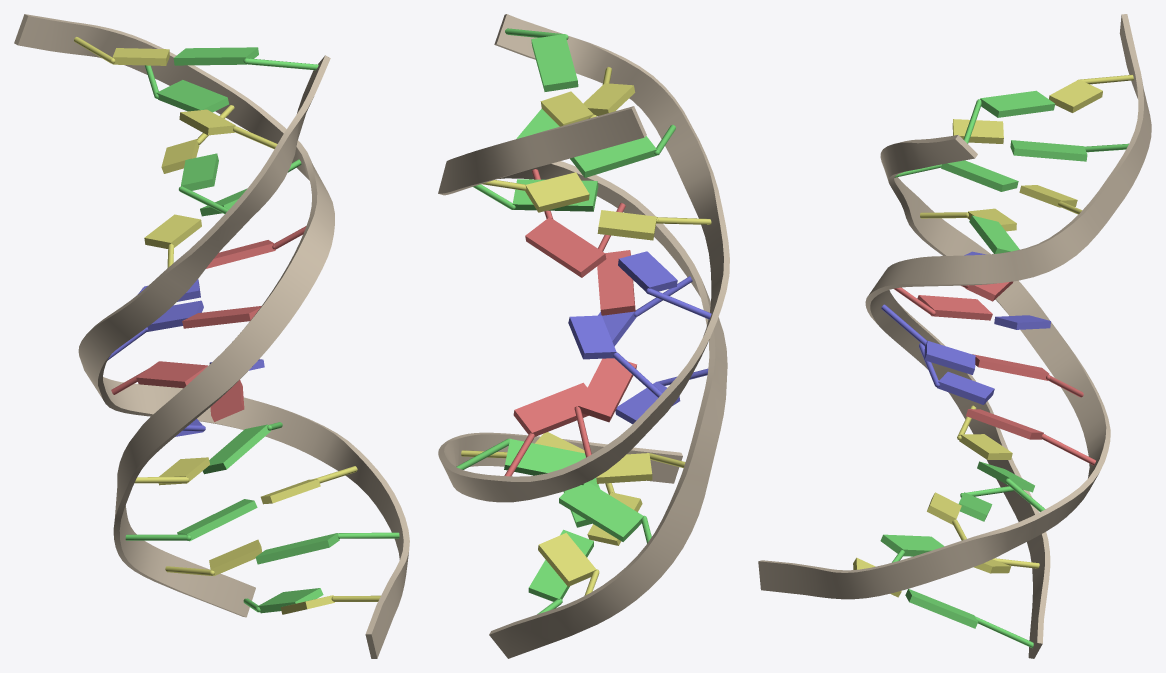
File: PRP_DNASpire_lod.glb
3 renders of one model, left to right at view 1: azimuth 30°, elevation 25°; view 2: azimuth 150°, elevation 25°; view 3: azimuth 270°, elevation 25°, orthographic. The views are drawn at different scales.
Visible parts, largest first — view 1: Object_5; view 2: Object_5; view 3: Object_5.
Boxes of the visible parts, x1,y1,x2,y2 form: Object_5: (14, 14, 409, 658); Object_5: (438, 14, 729, 658); Object_5: (758, 14, 1151, 658).
Size of the model in its own units: 1.96 by 4.26 by 2.67.
